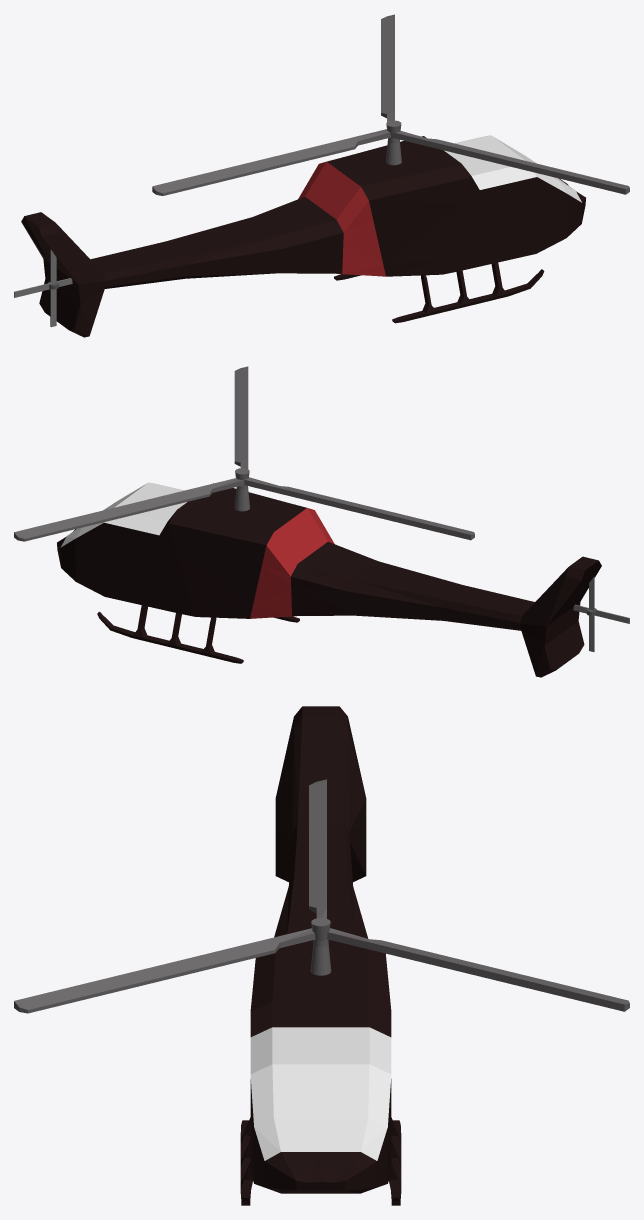
File: heli.glb
3 renders of one model, top to bottom at view 1: azimuth 30°, elevation 25°; view 2: azimuth 150°, elevation 25°; view 3: azimuth 270°, elevation 25°, orthographic. The views are drawn at different scales.
Visible parts, largest first — view 1: Cube_7c65ca, rotor_main, Cube_fbfbfb, Cube_c4a396, rotor_extra_0; view 2: Cube_7c65ca, rotor_main, Cube_fbfbfb, Cube_c4a396, rotor_extra_0; view 3: Cube_7c65ca, Cube_c4a396, rotor_main.
Part boxes in pixels (x1=…): Cube_7c65ca: x1=21, y1=136, x2=585, y2=337; rotor_main: x1=152, y1=14, x2=629, y2=195; Cube_fbfbfb: x1=298, y1=161, x2=385, y2=276; Cube_c4a396: x1=444, y1=135, x2=581, y2=202; rotor_extra_0: x1=14, y1=249, x2=72, y2=327; Cube_7c65ca: x1=57, y1=483, x2=601, y2=677; rotor_main: x1=14, y1=366, x2=474, y2=541; Cube_fbfbfb: x1=250, y1=508, x2=334, y2=618; Cube_c4a396: x1=60, y1=482, x2=186, y2=547; rotor_extra_0: x1=573, y1=576, x2=629, y2=651; Cube_7c65ca: x1=240, y1=706, x2=401, y2=1205; Cube_c4a396: x1=250, y1=1027, x2=391, y2=1160; rotor_main: x1=14, y1=779, x2=629, y2=1013.
Bounding box in the file's own units: 1.75 × 0.4986 × 1.27.
5 materials, 1 textured.
